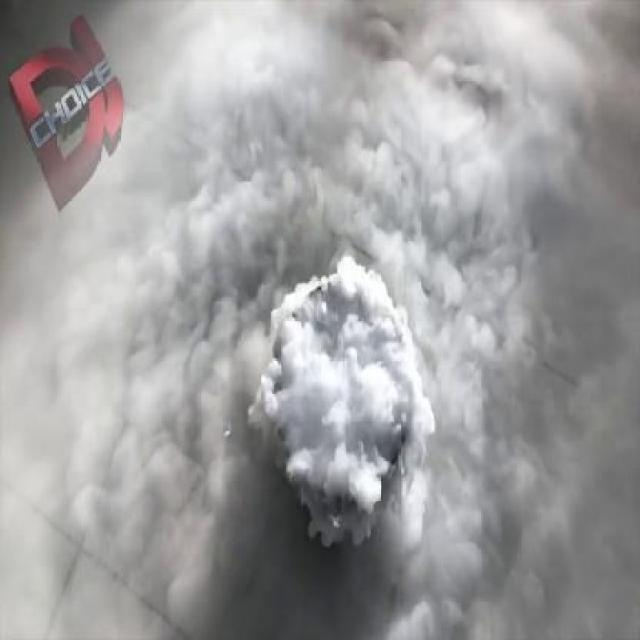smoke: (234, 168, 542, 602)
